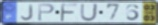6: (126, 4, 141, 22)
7: (106, 3, 123, 22)
F: (60, 3, 80, 23)
J: (20, 4, 35, 21)
P: (38, 3, 57, 22)
U: (80, 3, 100, 22)
